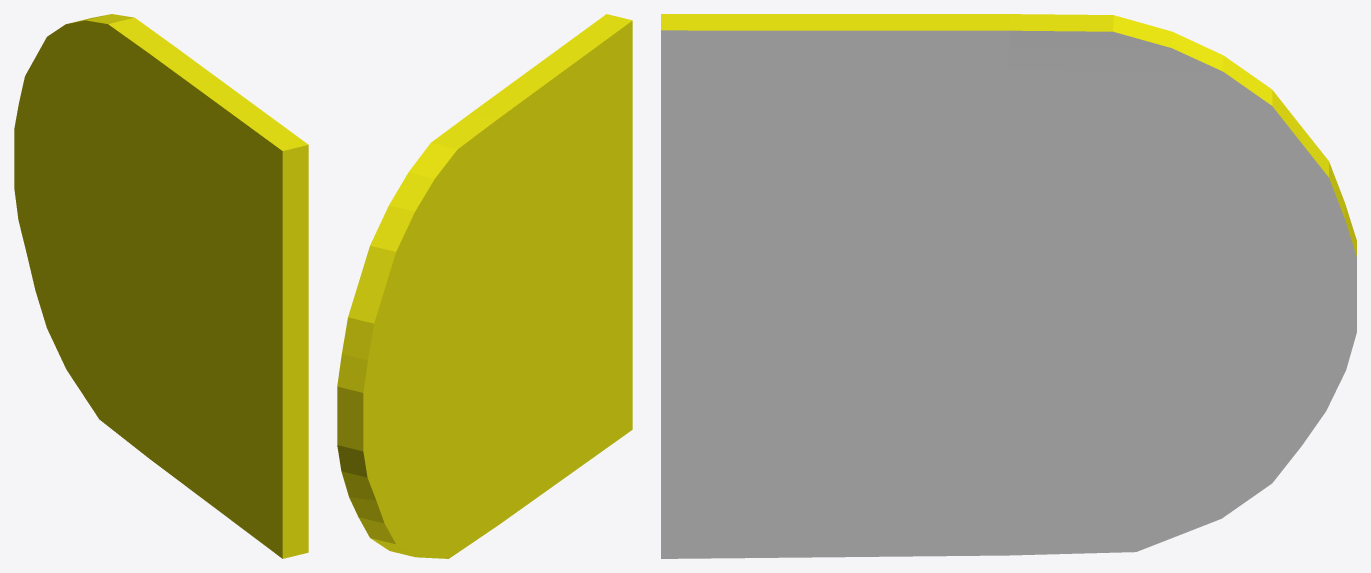
Rendered from Ocampo.fbx.
The picture shows the model from 3 angles, left to right: view 1: azimuth 30°, elevation 25°; view 2: azimuth 150°, elevation 25°; view 3: azimuth 270°, elevation 25°; orthographic projection. The views are drawn at different scales.
Parts seen in each view (by area): view 1: Cubo.001; view 2: Cubo.001; view 3: Cubo.001.
Part boxes in pixels (bbox=[...]): Cubo.001: bbox=[14, 14, 308, 558]; Cubo.001: bbox=[337, 14, 632, 558]; Cubo.001: bbox=[661, 14, 1356, 558].
Bounding box in the file's own units: 26.35 × 385 × 459.
